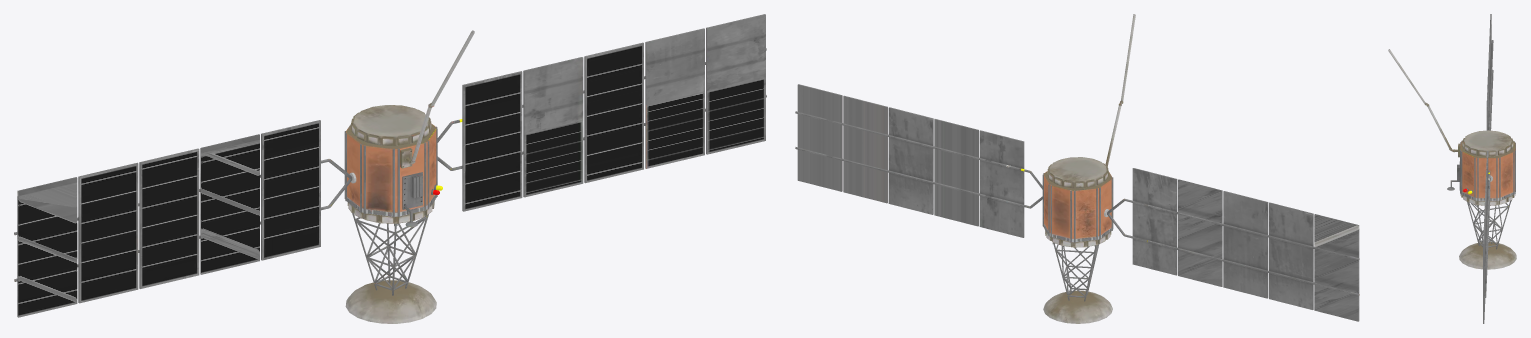
Rendered from satellite.glb.
3 renders of one model, left to right at view 1: azimuth 30°, elevation 25°; view 2: azimuth 150°, elevation 25°; view 3: azimuth 270°, elevation 25°, orthographic. The views are drawn at different scales.
Bounding box in the file's own units: 18.55 × 7.85 × 4.37.
Materials: 1 (1 with a texture image).
